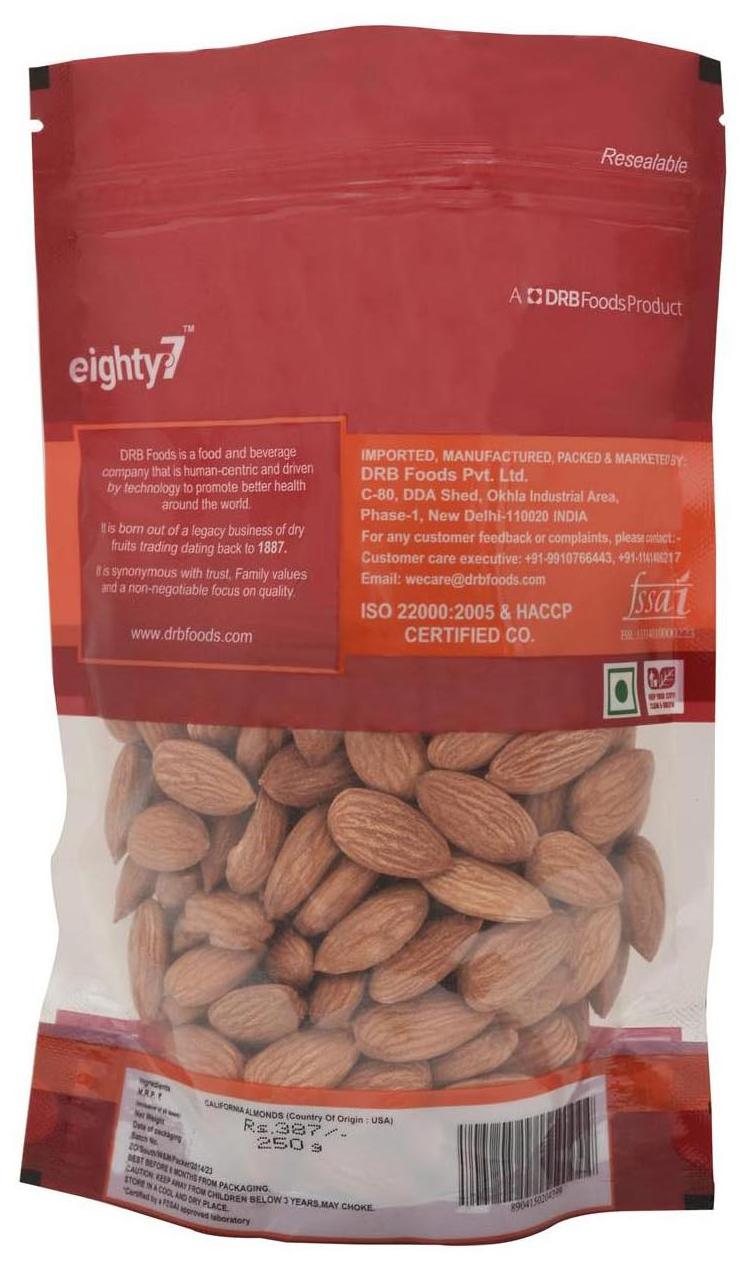fssai: (621, 570, 692, 620)
